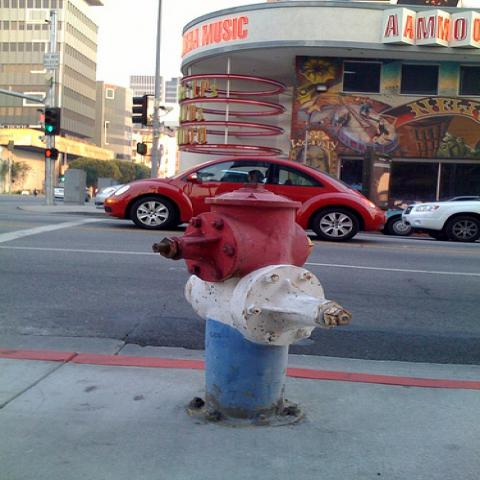car: (105, 155, 387, 241), (400, 195, 479, 242), (382, 209, 415, 237), (95, 183, 126, 208)
